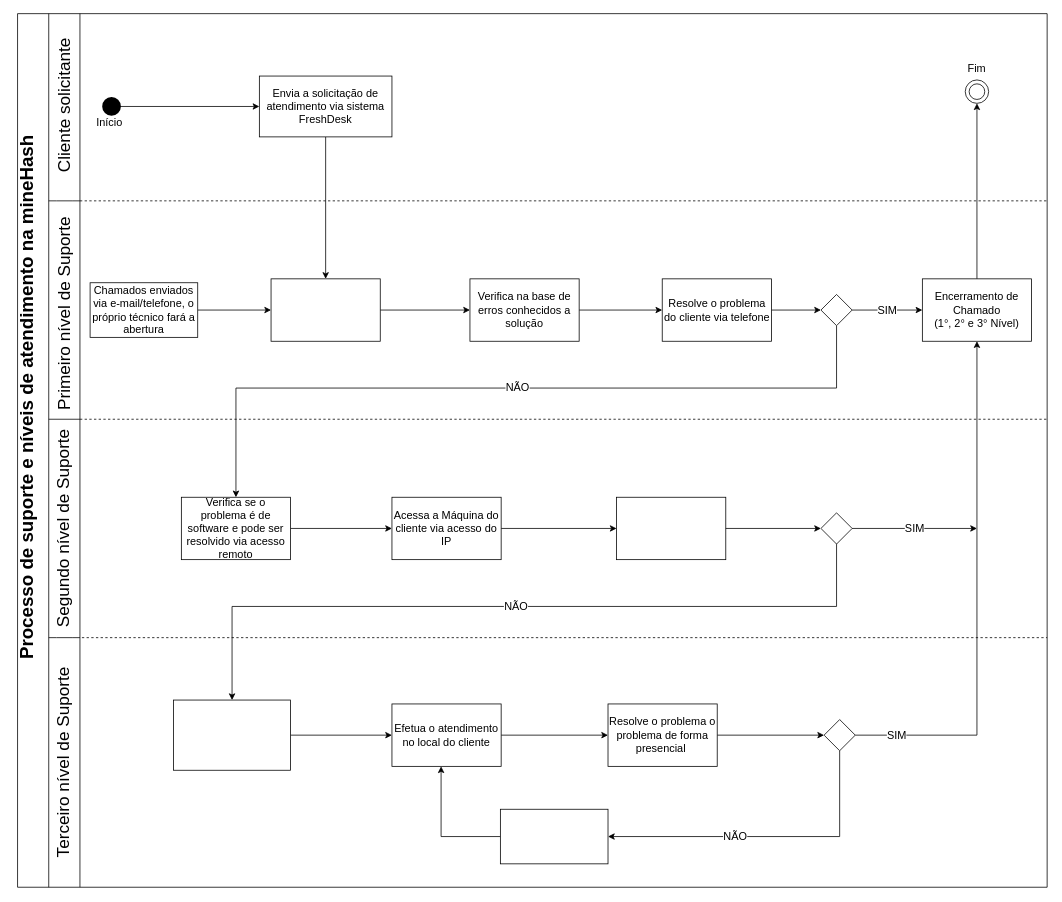
Image size: 1062x902. Some labels were removed from this diagram. The shapes that lost their labels are listed below. From the top down, each one's centre as x and y in pixels, then its label:
At point 325,309: "Avalia a solicitação do cliente e procede a categorização".
At point 671,528: "Resolve o problema de forma virtual".
At point 232,734: "Alinhado dia de atendimento presencial mediante agenda do técnico e SLA".
At point 554,836: "aplicar a solução de contorno prevista em SLA".
